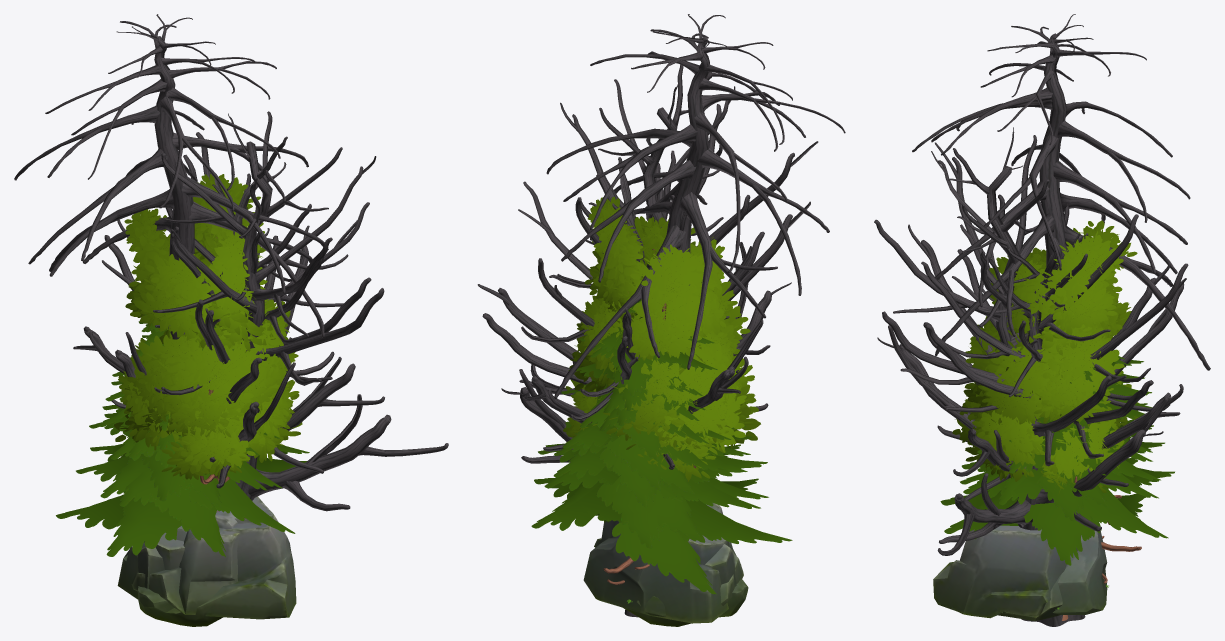
Rendered from nature.glb.
The picture shows the model from 3 angles, left to right: view 1: azimuth 30°, elevation 25°; view 2: azimuth 150°, elevation 25°; view 3: azimuth 270°, elevation 25°; orthographic projection. The views are drawn at different scales.
Visible parts, largest first — view 1: CommonTree_3, DeadTree_2, DeadTree_3, Pine_2, DeadTree_1, Rock_Medium_3, CommonTree_1, CommonTree_2, Rock_Medium_1, Pine_1, Rock_Medium_2, Pine_3; view 2: DeadTree_3, Pine_2, CommonTree_3, DeadTree_2, Pine_1, DeadTree_1, CommonTree_1, Rock_Medium_2, CommonTree_2, Pine_3, Rock_Medium_3, Rock_Medium_1; view 3: DeadTree_2, DeadTree_3, CommonTree_3, DeadTree_1, Rock_Medium_3, Pine_2, CommonTree_2, CommonTree_1, Pine_1, Rock_Medium_2, Rock_Medium_1, Pine_3.
Boxes of the visible parts, left/top/right/bottom form: CommonTree_3: left=124, top=173, right=298, bottom=442; DeadTree_2: left=115, top=111, right=448, bottom=511; DeadTree_3: left=14, top=14, right=324, bottom=339; Pine_2: left=56, top=326, right=309, bottom=557; DeadTree_1: left=73, top=154, right=384, bottom=473; Rock_Medium_3: left=138, top=496, right=296, bottom=626; CommonTree_1: left=114, top=308, right=302, bottom=479; CommonTree_2: left=118, top=278, right=299, bottom=484; Rock_Medium_1: left=131, top=510, right=239, bottom=614; Pine_1: left=76, top=319, right=281, bottom=518; Rock_Medium_2: left=117, top=532, right=184, bottom=599; Pine_3: left=89, top=314, right=279, bottom=458; DeadTree_3: left=546, top=14, right=845, bottom=616; Pine_2: left=531, top=338, right=792, bottom=594; CommonTree_3: left=579, top=197, right=750, bottom=456; DeadTree_2: left=477, top=64, right=818, bottom=469; Pine_1: left=544, top=327, right=768, bottom=573; DeadTree_1: left=482, top=150, right=764, bottom=617; CommonTree_1: left=574, top=298, right=760, bottom=481; Rock_Medium_2: left=583, top=535, right=728, bottom=623; CommonTree_2: left=563, top=262, right=758, bottom=471; Pine_3: left=558, top=299, right=750, bottom=584; Rock_Medium_3: left=594, top=520, right=748, bottom=617; Rock_Medium_1: left=603, top=503, right=743, bottom=626; DeadTree_2: left=874, top=127, right=1170, bottom=555; DeadTree_3: left=912, top=14, right=1210, bottom=626; CommonTree_3: left=962, top=220, right=1137, bottom=620; DeadTree_1: left=921, top=194, right=1188, bottom=500; Rock_Medium_3: left=933, top=525, right=1077, bottom=618; Pine_2: left=940, top=359, right=1174, bottom=565; CommonTree_2: left=952, top=303, right=1124, bottom=620; CommonTree_1: left=959, top=322, right=1139, bottom=492; Pine_1: left=961, top=356, right=1164, bottom=551; Rock_Medium_2: left=1053, top=530, right=1107, bottom=614; Rock_Medium_1: left=998, top=550, right=1078, bottom=621; Pine_3: left=977, top=359, right=1152, bottom=583.
Bounding box in the file's own units: 8.24 × 13.28 × 7.24.
10 materials, 10 textured.
